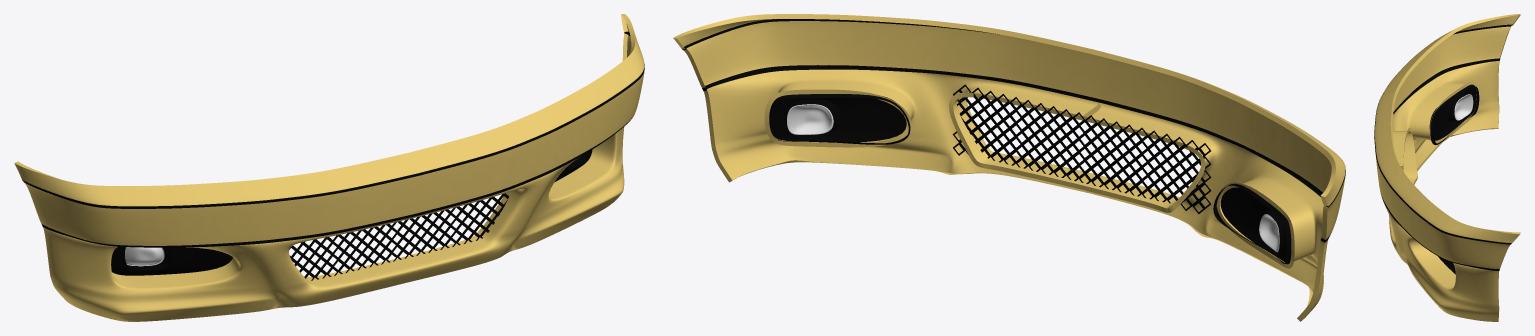
The model's file is test-bmw-e46-front-bumper.glb.
The picture shows the model from 3 angles, left to right: view 1: azimuth 30°, elevation 25°; view 2: azimuth 150°, elevation 25°; view 3: azimuth 270°, elevation 25°; orthographic projection. The views are drawn at different scales.
Parts seen in each view (by area): view 1: bumper, grill; view 2: bumper, grill; view 3: bumper.
Part boxes in pixels (left/top/right/bottom): bumper: left=14, top=14, right=644, bottom=321; grill: left=289, top=193, right=508, bottom=280; bumper: left=673, top=14, right=1345, bottom=321; grill: left=953, top=84, right=1211, bottom=213; bumper: left=1374, top=14, right=1520, bottom=321.
Size of the model in its own units: 1.5 by 0.324 by 0.421.
